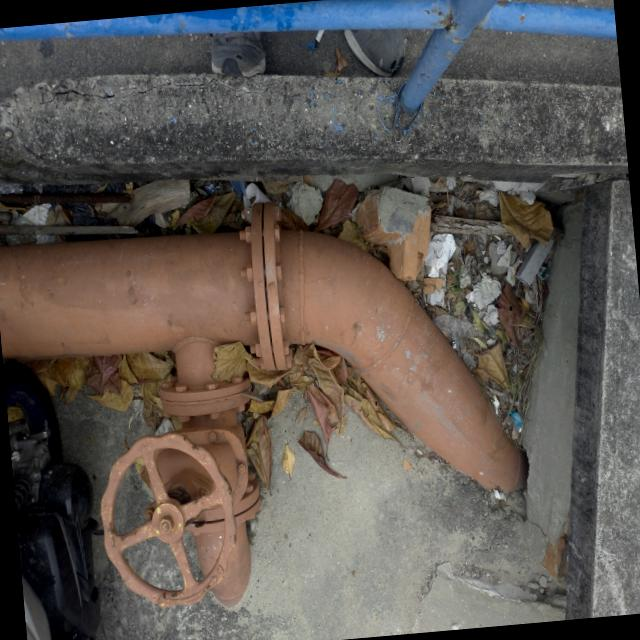gas: (0, 219, 525, 470)
